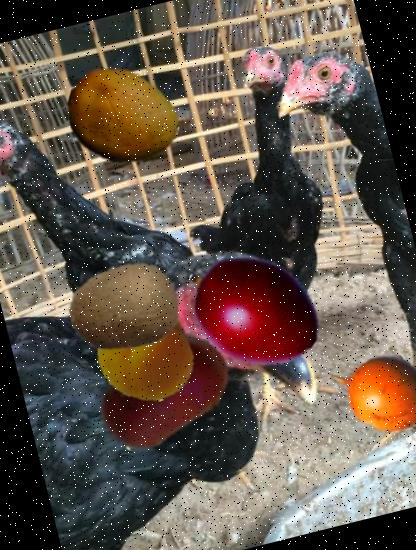Granadilla: (316, 326, 416, 454)
Kiwi: (57, 240, 192, 375)
Nectarine: (84, 310, 249, 475)
Papaya: (54, 48, 192, 186)
Peach: (83, 294, 204, 414)
Tamarillo: (167, 224, 339, 396)
